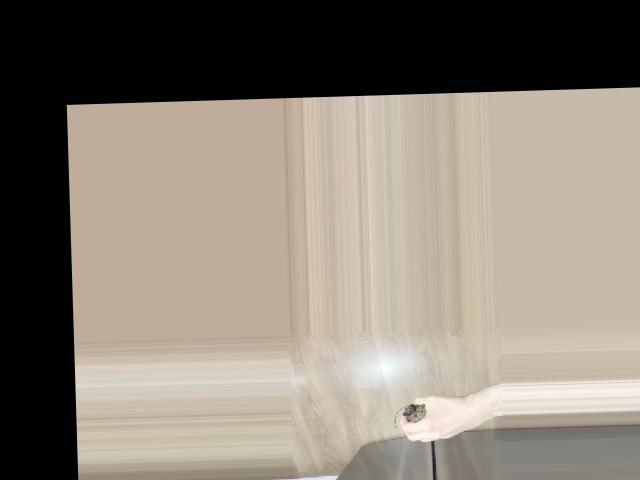beet: (392, 403, 426, 428)
